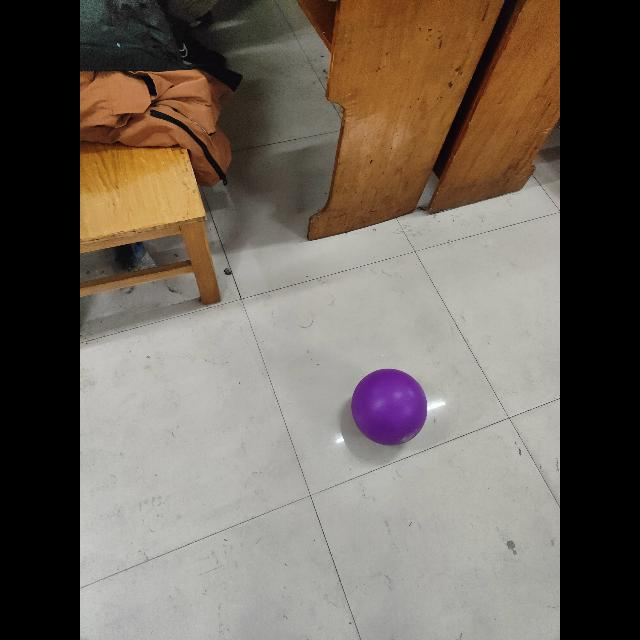P: (349, 366, 428, 446)
